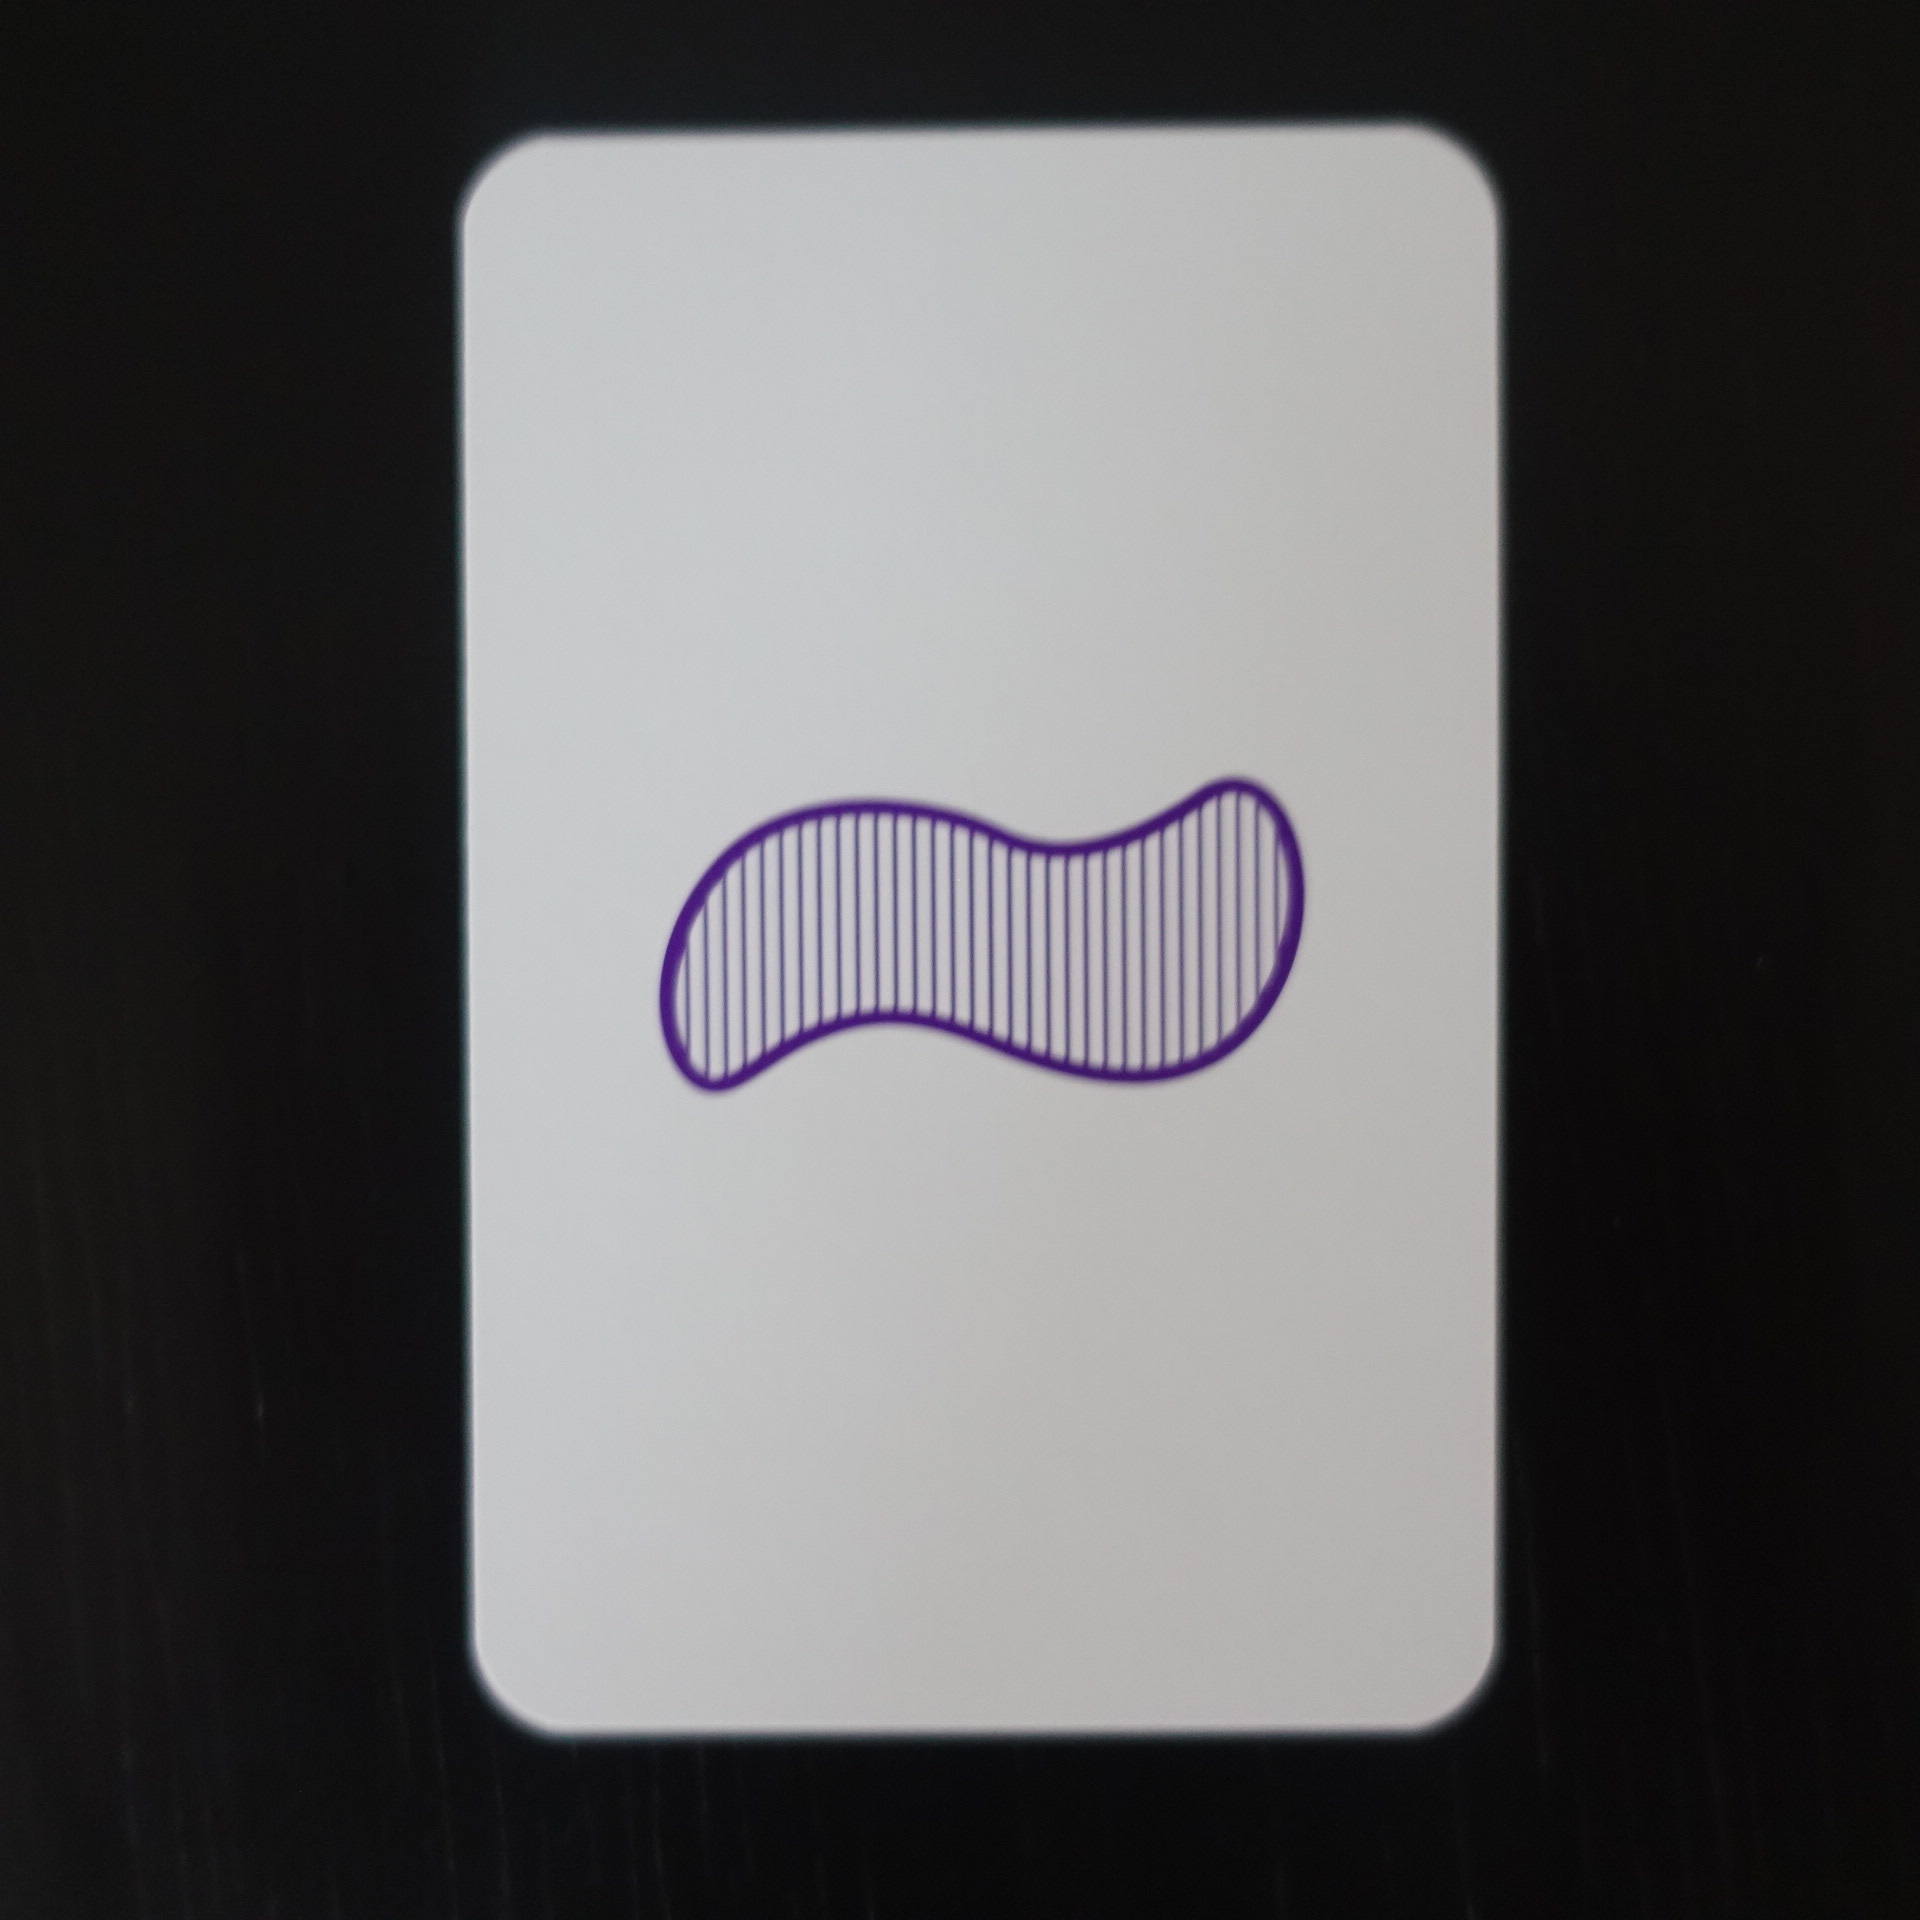c-1-h-s-p: (418, 84, 1531, 1771)
